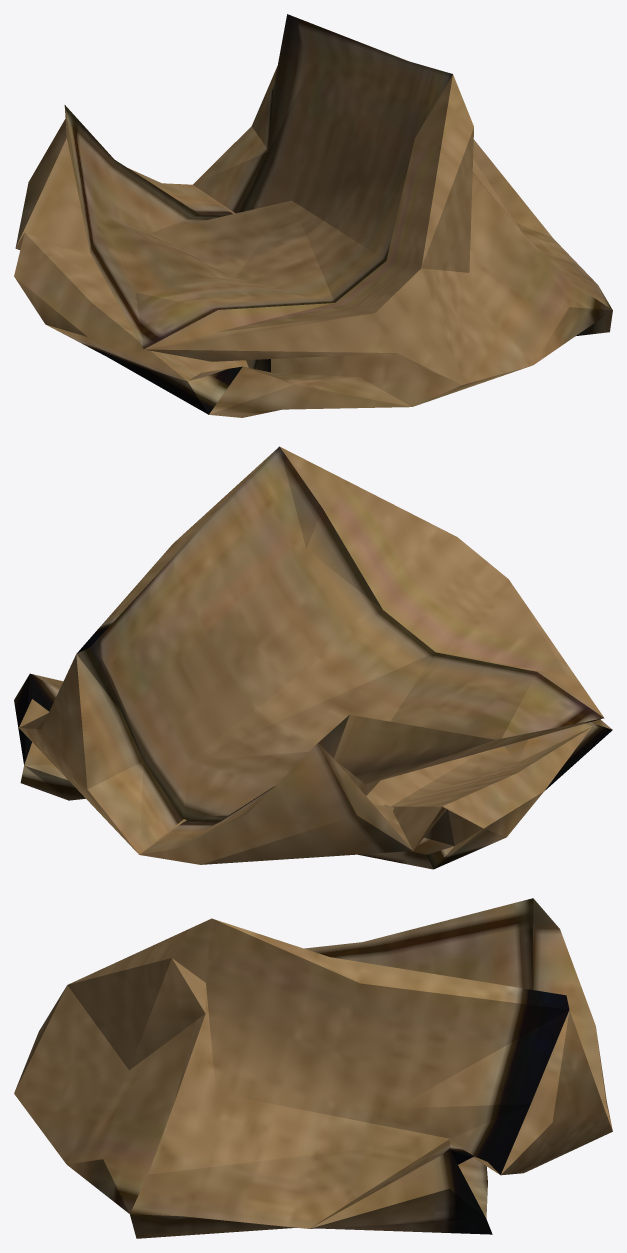
Rendered from box_soggy_lod1_web.glb.
3 views of the same model, one above another, from view 1: azimuth 30°, elevation 25°; view 2: azimuth 150°, elevation 25°; view 3: azimuth 270°, elevation 25° (orthographic).
Parts seen in each view (by area): view 1: BoxSoggy_Body; view 2: BoxSoggy_Body; view 3: BoxSoggy_Body.
Part boxes in pixels (x1=…): BoxSoggy_Body: x1=14, y1=14, x2=612, y2=417; BoxSoggy_Body: x1=14, y1=446, x2=612, y2=869; BoxSoggy_Body: x1=14, y1=898, x2=612, y2=1238.
Size of the model in its own units: 0.4437 by 0.2506 by 0.4877.
Materials: 1 (1 with a texture image).
